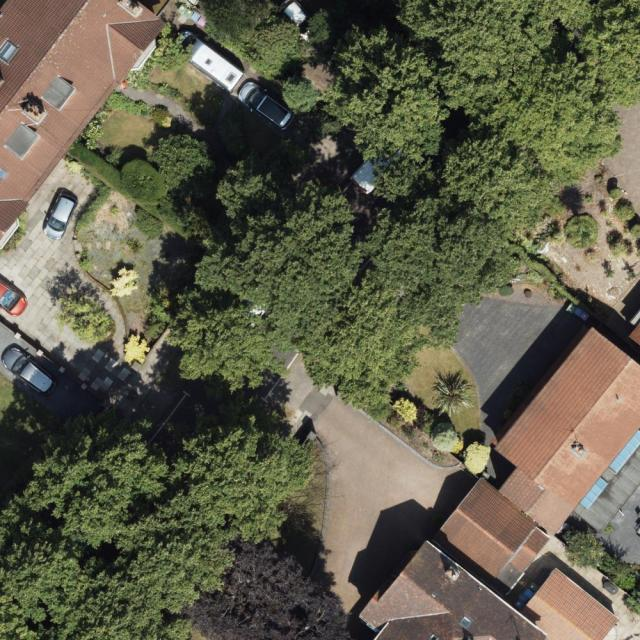roof: (359, 328, 640, 640), (0, 0, 170, 249)
skylight: (454, 612, 475, 632), (0, 39, 17, 62)
